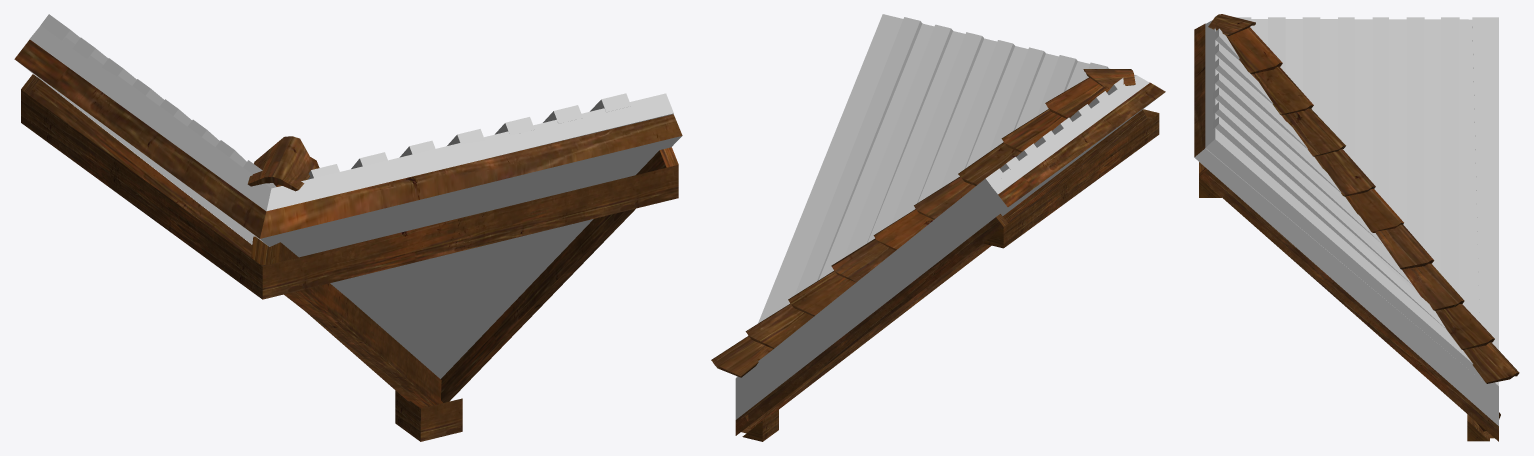
The picture shows the model from 3 angles, left to right: view 1: azimuth 30°, elevation 25°; view 2: azimuth 150°, elevation 25°; view 3: azimuth 270°, elevation 25°; orthographic projection. The views are drawn at different scales.
Parts seen in each view (by area): view 1: SM_BB_T2_Roof_Large_Valley_LOD0; view 2: SM_BB_T2_Roof_Large_Valley_LOD0; view 3: SM_BB_T2_Roof_Large_Valley_LOD0.
Boxes of the visible parts, left/top/right/bottom form: SM_BB_T2_Roof_Large_Valley_LOD0: left=14, top=14, right=682, bottom=441; SM_BB_T2_Roof_Large_Valley_LOD0: left=711, top=14, right=1165, bottom=441; SM_BB_T2_Roof_Large_Valley_LOD0: left=1194, top=14, right=1519, bottom=441.
Bounding box in the file's own units: 3.53 × 3.8 × 3.56.
